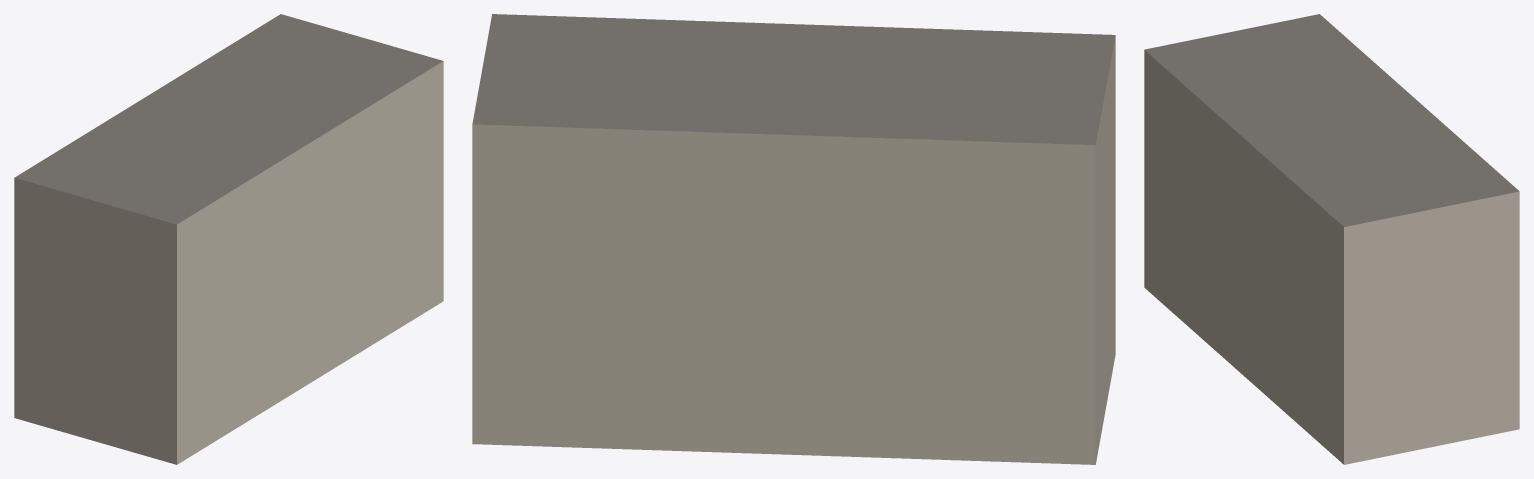
3 views of the same model, side by side, from view 1: azimuth 30°, elevation 25°; view 2: azimuth 150°, elevation 25°; view 3: azimuth 270°, elevation 25° (orthographic). The views are drawn at different scales.
Parts seen in each view (by area): view 1: HP-w1435330151; view 2: HP-w1435330151; view 3: HP-w1435330151.
Part boxes in pixels (<box>): HP-w1435330151: <box>14,14,443,464</box>; HP-w1435330151: <box>472,14,1115,464</box>; HP-w1435330151: <box>1144,14,1519,464</box>.
Bounding box in the file's own units: 34.6 × 18 × 25.77.
